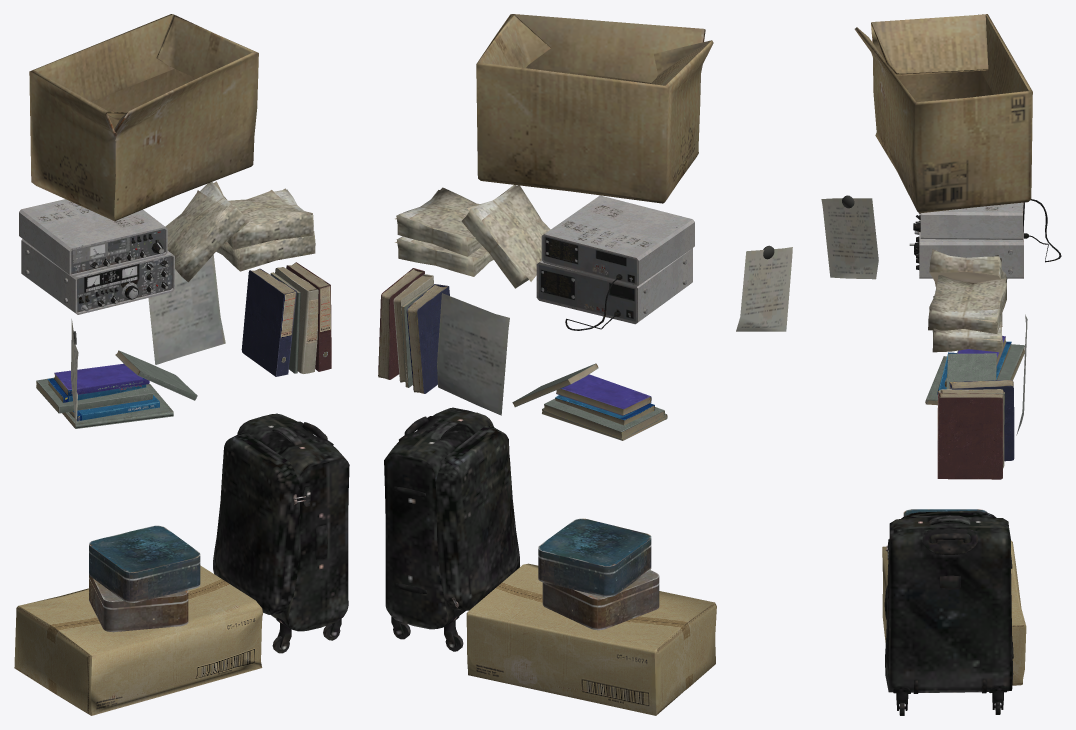
The model's file is sm39_029_officelockerset01a.fbx.
3 renders of one model, left to right at view 1: azimuth 30°, elevation 25°; view 2: azimuth 150°, elevation 25°; view 3: azimuth 270°, elevation 25°, orthographic. The views are drawn at different scales.
Parts seen in each view (by area): view 1: LOD_1_Group_0_Sub_4__sm36_002_Cardboard01A_A_Mat, LOD_1_Group_0_Sub_2__sm32_010_BagCarry01A_A_Mat, LOD_1_Group_0_Sub_3__sm36_004_Cardboard03A_A_Mat, LOD_1_Group_0_Sub_8__sm31_023_AudioInstrument01A_A_Mat, LOD_1_Group_0_Sub_1__sm32_035_CanBox01B_B_Mat, LOD_1_Group_0_Sub_6__sm36_009_PaperBundle01A_A_Mat, LOD_1_Group_0_Sub_7__sm36_012_PaperMagnet01A_A_Mat, LOD_1_Group_4_Sub_1__sm36_007_PaperWork01A_A_Mat, LOD_1_Group_7_Sub_1__sm36_007_PaperWork01A_A_Mat, LOD_1_Group_1_Sub_1__sm36_007_PaperWork01A_A_Mat, LOD_1_Group_9_Sub_1__sm36_007_PaperWork01A_A_Mat, LOD_1_Group_3_Sub_1__sm36_007_PaperWork01A_A_Mat (+5 smaller); view 2: LOD_1_Group_0_Sub_4__sm36_002_Cardboard01A_A_Mat, LOD_1_Group_0_Sub_2__sm32_010_BagCarry01A_A_Mat, LOD_1_Group_0_Sub_3__sm36_004_Cardboard03A_A_Mat, LOD_1_Group_0_Sub_8__sm31_023_AudioInstrument01A_A_Mat, LOD_1_Group_0_Sub_1__sm32_035_CanBox01B_B_Mat, LOD_1_Group_0_Sub_7__sm36_012_PaperMagnet01A_A_Mat, LOD_1_Group_0_Sub_6__sm36_009_PaperBundle01A_A_Mat, LOD_1_Group_4_Sub_1__sm36_007_PaperWork01A_A_Mat, LOD_1_Group_1_Sub_1__sm36_007_PaperWork01A_A_Mat, LOD_1_Group_9_Sub_1__sm36_007_PaperWork01A_A_Mat, LOD_1_Group_3_Sub_1__sm36_007_PaperWork01A_A_Mat, LOD_1_Group_7_Sub_1__sm36_007_PaperWork01A_A_Mat (+3 smaller); view 3: LOD_1_Group_0_Sub_4__sm36_002_Cardboard01A_A_Mat, LOD_1_Group_0_Sub_2__sm32_010_BagCarry01A_A_Mat, LOD_1_Group_0_Sub_6__sm36_009_PaperBundle01A_A_Mat, LOD_1_Group_0_Sub_8__sm31_023_AudioInstrument01A_A_Mat, LOD_1_Group_9_Sub_1__sm36_007_PaperWork01A_A_Mat, LOD_1_Group_0_Sub_7__sm36_012_PaperMagnet01A_A_Mat, LOD_1_Group_0_Sub_3__sm36_004_Cardboard03A_A_Mat, LOD_1_Group_6_Sub_1__sm36_007_PaperWork01A_A_Mat, LOD_1_Group_4_Sub_1__sm36_007_PaperWork01A_A_Mat, LOD_1_Group_3_Sub_1__sm36_007_PaperWork01A_A_Mat, LOD_1_Group_7_Sub_1__sm36_007_PaperWork01A_A_Mat, LOD_1_Group_5_Sub_1__sm36_007_PaperWork01A_A_Mat.
Boxes of the visible parts, bbox=[...] form: LOD_1_Group_0_Sub_4__sm36_002_Cardboard01A_A_Mat: bbox=[29, 14, 258, 221]; LOD_1_Group_0_Sub_2__sm32_010_BagCarry01A_A_Mat: bbox=[213, 413, 349, 653]; LOD_1_Group_0_Sub_3__sm36_004_Cardboard03A_A_Mat: bbox=[14, 565, 262, 715]; LOD_1_Group_0_Sub_8__sm31_023_AudioInstrument01A_A_Mat: bbox=[19, 199, 174, 314]; LOD_1_Group_0_Sub_1__sm32_035_CanBox01B_B_Mat: bbox=[89, 525, 200, 632]; LOD_1_Group_0_Sub_6__sm36_009_PaperBundle01A_A_Mat: bbox=[165, 181, 315, 282]; LOD_1_Group_0_Sub_7__sm36_012_PaperMagnet01A_A_Mat: bbox=[71, 255, 225, 428]; LOD_1_Group_4_Sub_1__sm36_007_PaperWork01A_A_Mat: bbox=[241, 268, 296, 376]; LOD_1_Group_7_Sub_1__sm36_007_PaperWork01A_A_Mat: bbox=[275, 267, 318, 373]; LOD_1_Group_1_Sub_1__sm36_007_PaperWork01A_A_Mat: bbox=[54, 363, 149, 396]; LOD_1_Group_9_Sub_1__sm36_007_PaperWork01A_A_Mat: bbox=[286, 262, 331, 371]; LOD_1_Group_3_Sub_1__sm36_007_PaperWork01A_A_Mat: bbox=[36, 377, 152, 413]; LOD_1_Group_0_Sub_4__sm36_002_Cardboard01A_A_Mat: bbox=[476, 14, 713, 203]; LOD_1_Group_0_Sub_2__sm32_010_BagCarry01A_A_Mat: bbox=[384, 407, 519, 651]; LOD_1_Group_0_Sub_3__sm36_004_Cardboard03A_A_Mat: bbox=[466, 563, 716, 715]; LOD_1_Group_0_Sub_8__sm31_023_AudioInstrument01A_A_Mat: bbox=[536, 195, 694, 330]; LOD_1_Group_0_Sub_1__sm32_035_CanBox01B_B_Mat: bbox=[538, 518, 659, 630]; LOD_1_Group_0_Sub_7__sm36_012_PaperMagnet01A_A_Mat: bbox=[437, 245, 792, 415]; LOD_1_Group_0_Sub_6__sm36_009_PaperBundle01A_A_Mat: bbox=[395, 185, 550, 288]; LOD_1_Group_4_Sub_1__sm36_007_PaperWork01A_A_Mat: bbox=[406, 284, 449, 393]; LOD_1_Group_1_Sub_1__sm36_007_PaperWork01A_A_Mat: bbox=[556, 374, 651, 415]; LOD_1_Group_9_Sub_1__sm36_007_PaperWork01A_A_Mat: bbox=[378, 268, 424, 379]; LOD_1_Group_3_Sub_1__sm36_007_PaperWork01A_A_Mat: bbox=[544, 398, 664, 439]; LOD_1_Group_7_Sub_1__sm36_007_PaperWork01A_A_Mat: bbox=[393, 274, 433, 382]; LOD_1_Group_0_Sub_4__sm36_002_Cardboard01A_A_Mat: bbox=[854, 14, 1032, 213]; LOD_1_Group_0_Sub_2__sm32_010_BagCarry01A_A_Mat: bbox=[884, 510, 1013, 715]; LOD_1_Group_0_Sub_6__sm36_009_PaperBundle01A_A_Mat: bbox=[928, 249, 1007, 352]; LOD_1_Group_0_Sub_8__sm31_023_AudioInstrument01A_A_Mat: bbox=[909, 199, 1061, 278]; LOD_1_Group_9_Sub_1__sm36_007_PaperWork01A_A_Mat: bbox=[937, 392, 1003, 479]; LOD_1_Group_0_Sub_7__sm36_012_PaperMagnet01A_A_Mat: bbox=[821, 195, 1027, 435]; LOD_1_Group_0_Sub_3__sm36_004_Cardboard03A_A_Mat: bbox=[882, 540, 1026, 685]; LOD_1_Group_6_Sub_1__sm36_007_PaperWork01A_A_Mat: bbox=[946, 353, 996, 389]; LOD_1_Group_4_Sub_1__sm36_007_PaperWork01A_A_Mat: bbox=[949, 380, 1014, 461]; LOD_1_Group_3_Sub_1__sm36_007_PaperWork01A_A_Mat: bbox=[944, 344, 1024, 387]; LOD_1_Group_7_Sub_1__sm36_007_PaperWork01A_A_Mat: bbox=[939, 389, 1004, 467]; LOD_1_Group_5_Sub_1__sm36_007_PaperWork01A_A_Mat: bbox=[925, 356, 946, 405].
Bounding box in the file's own units: 1.29 × 2.4 × 0.8848.
